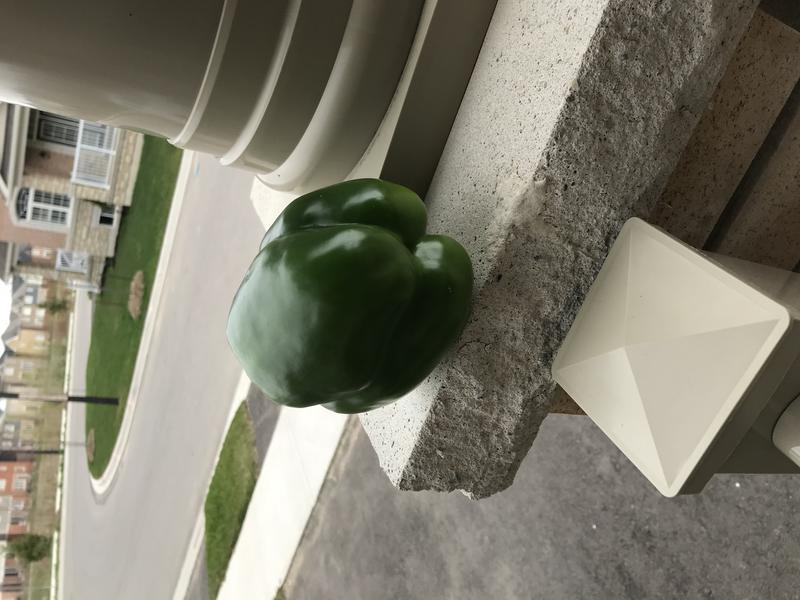green_pepper: (214, 168, 485, 432)
